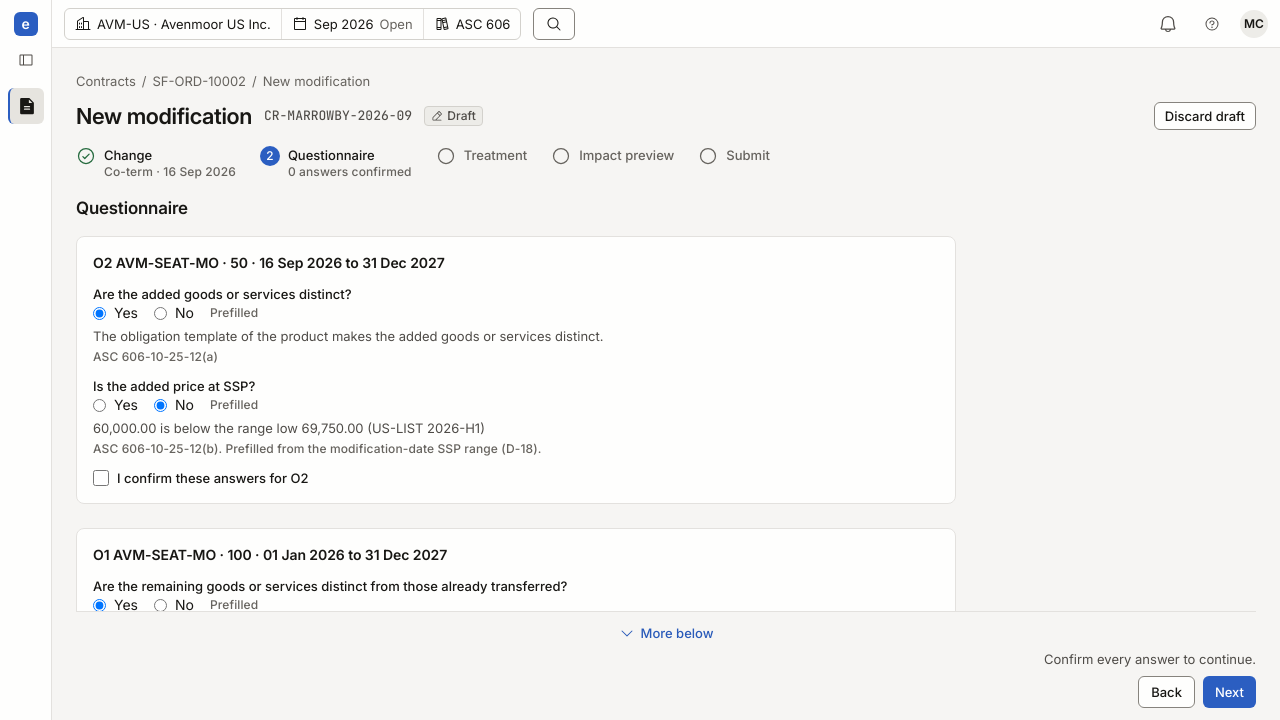
SF-07 the wizard of a draft › a stored answer of Yes reads as attested with the price and the range, and the screen concludes nothing
Expected: the element "Is the added price at SSP?" is shown, [93,378,542,456]
Expected: the text "60,000.00 is below the range low 69,750.00 (US-LIST 2026-H1)" is shown, [93,420,485,436]
Click the radio button labelled "Yes" below "Is the added price at SSP?": (100, 405) [93,398,106,412]
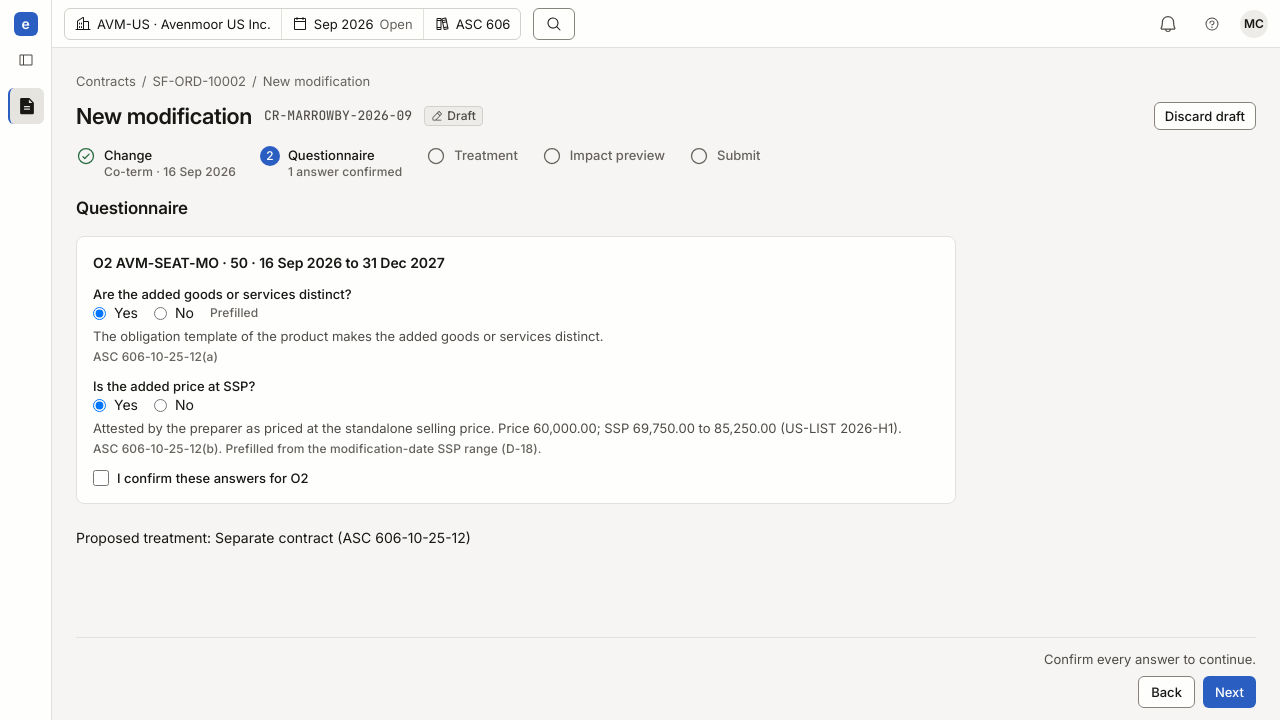
Expected: the text "Proposed treatment: Separate contract (ASC 606-10-25-12)" is shown, [76,529,471,546]
Expected: the text "Attested by the preparer as priced at the standalone selling price. Price 60,000.00; SSP 69,750.00 to 85,250.00 (US-LIST" is shown, [93,420,902,436]
Expected: the text "60,000.00 is below the range low 69,750.00 (US-LIST 2026-H1)" is gone
The attestation makes the added goods a contract of their own: O2 alone is asked.
Click the checkbox labelled "I confirm these answers for O2": (101, 478) [93,470,109,486]
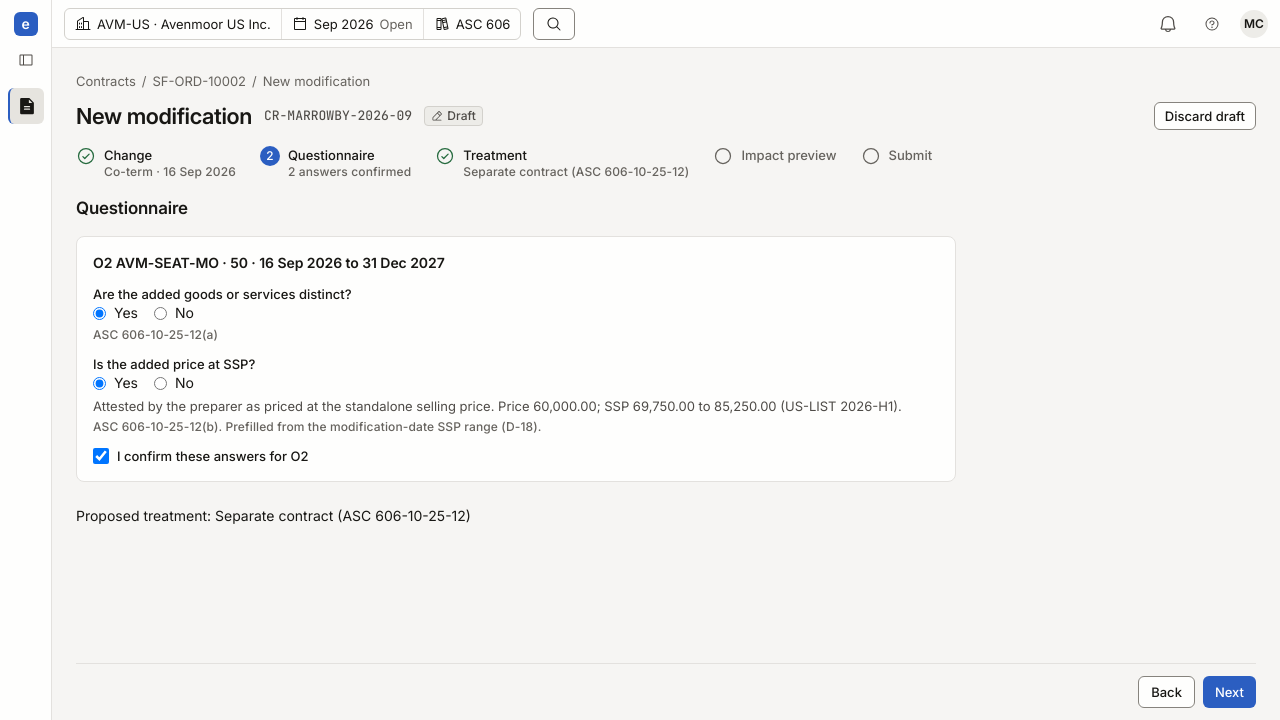
Expected: the text "Attested by the preparer as priced at the standalone selling price. Price 60,000.00; SSP 69,750.00 to 85,250.00 (US-LIST" is shown, [93,398,902,414]
Expected: the message with test id "SF-07-blocked" is gone
Click the button "Next": (1229, 692) [1203,676,1256,708]
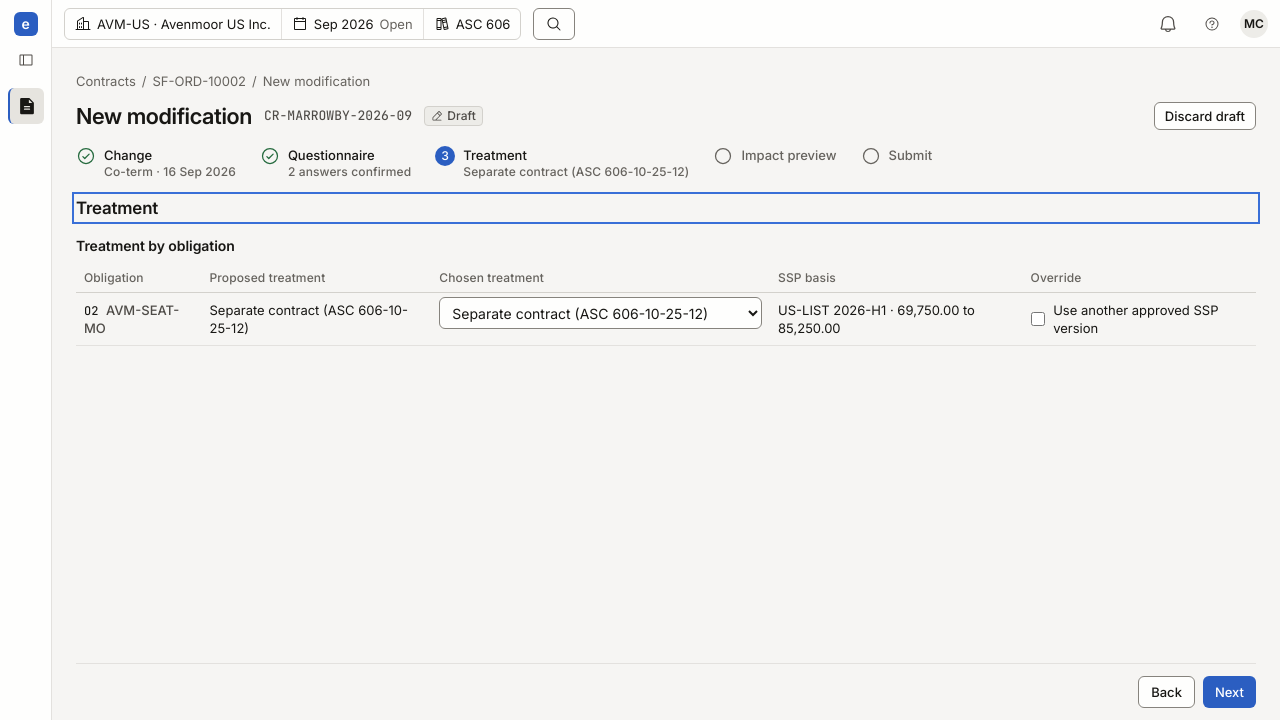
Expected: the text "US-LIST 2026-H1 · 69,750.00 to 85,250.00" is shown, [770,292,1023,346]
